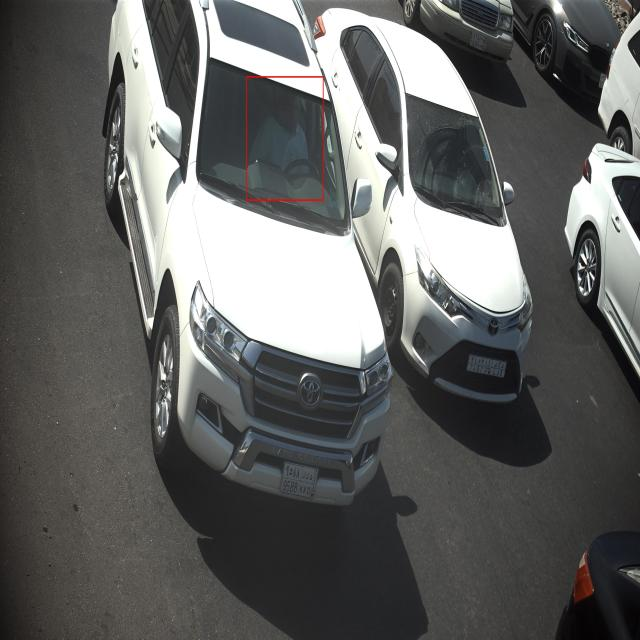windshield: (191, 49, 356, 246), (404, 85, 508, 242)
